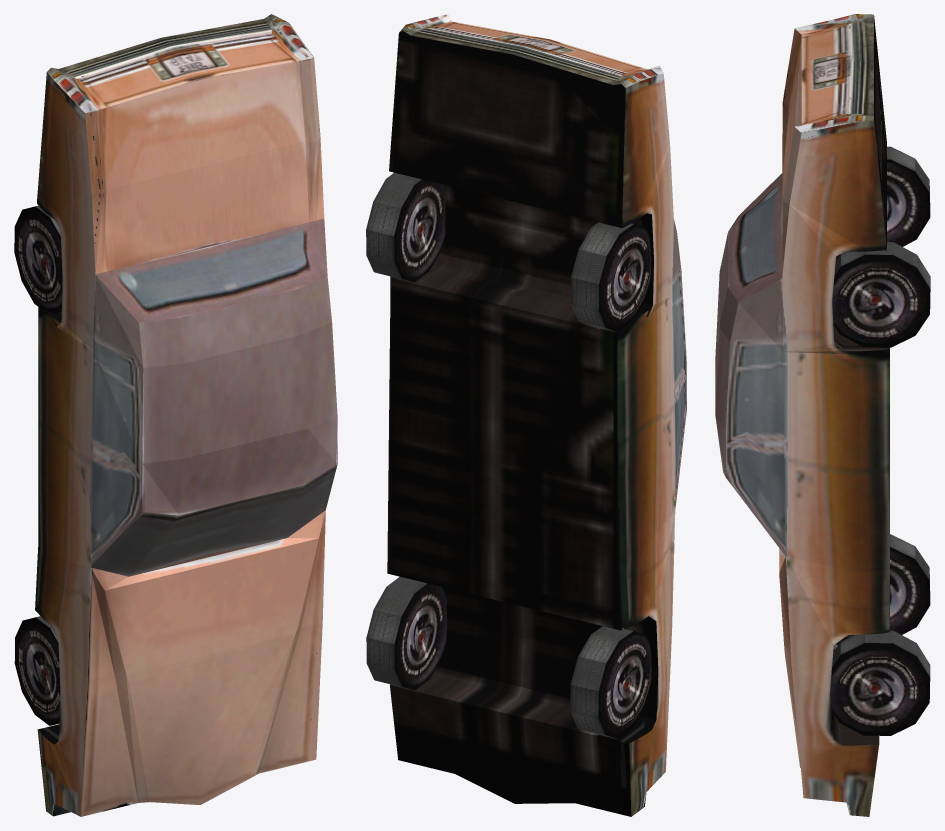
File: carpack_sedan2_wtf.obj
3 views of the same model, side by side, from view 1: azimuth 30°, elevation 25°; view 2: azimuth 150°, elevation 25°; view 3: azimuth 270°, elevation 25° (orthographic). The views are drawn at different scales.
Visible parts, largest first — view 1: group2; view 2: group2; view 3: group2.
Part boxes in pixels (box(x1,y1,x2,y2)): group2: box(14, 14, 337, 816); group2: box(366, 14, 686, 816); group2: box(715, 14, 930, 816).
Size of the model in its own units: 226 by 660 by 180.
